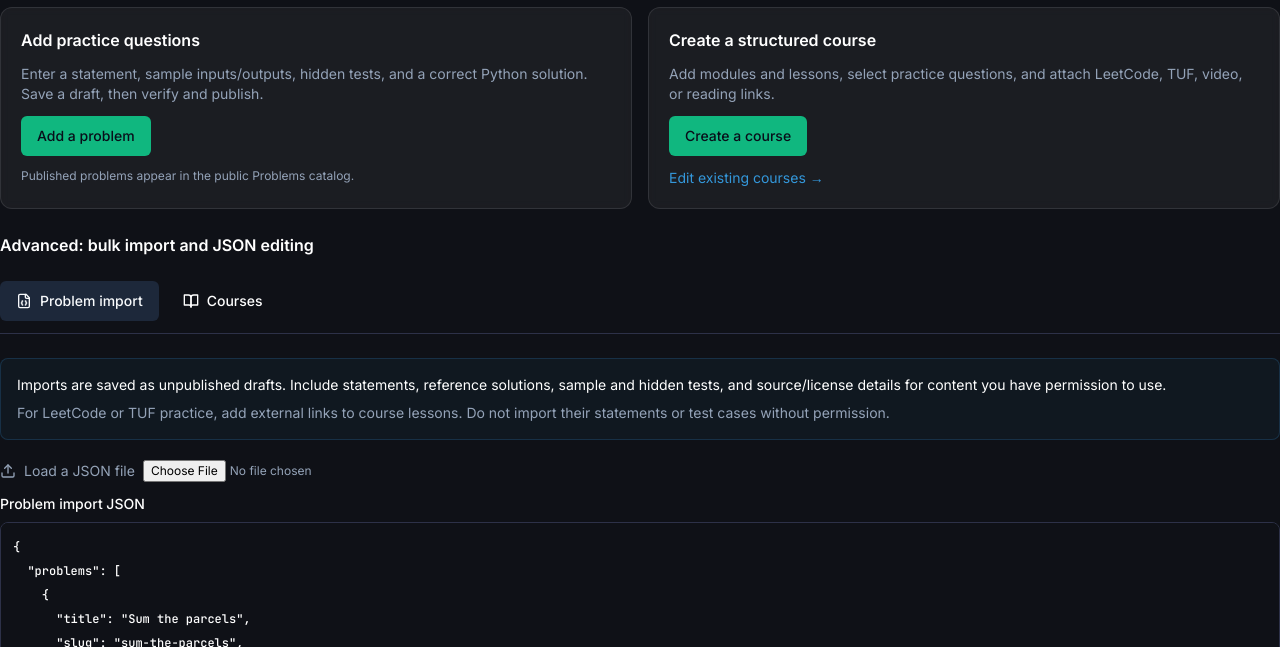
Test: course author reviews replacement effects before saving existing content
Click the button "Courses".
click(223, 301)  # box [167,281,279,321]
(page scrolled)
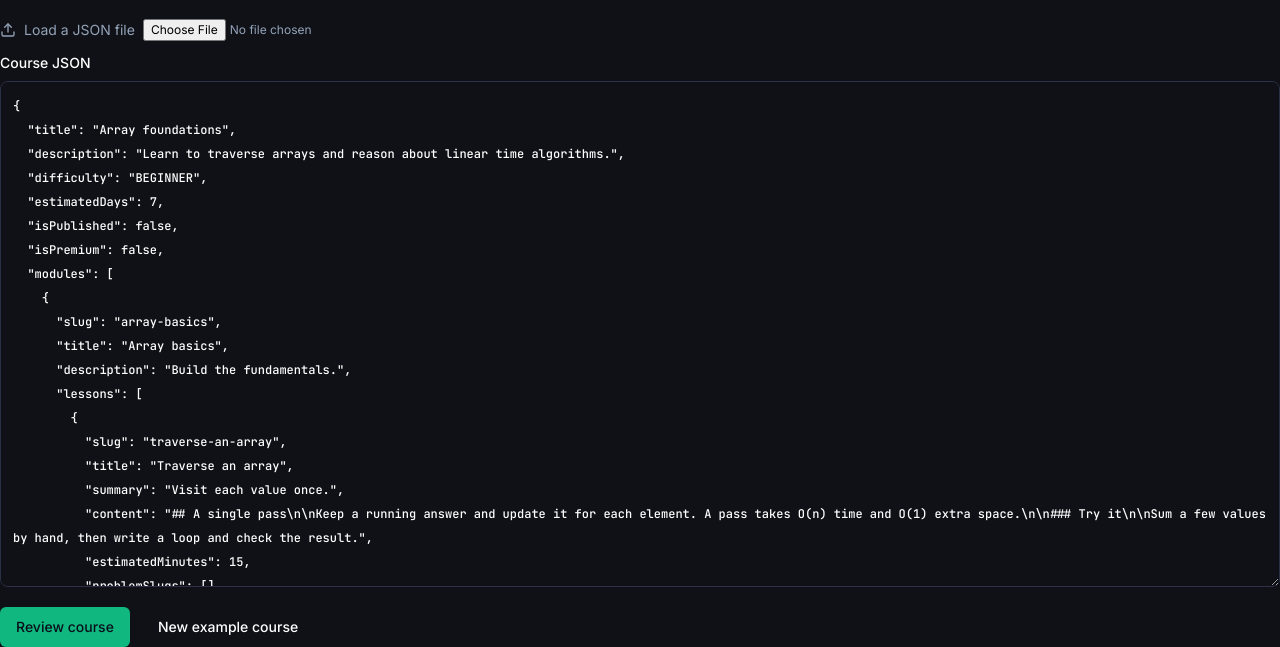
Click the button "Review course".
click(65, 627)  # box [0,607,130,646]
(page scrolled)
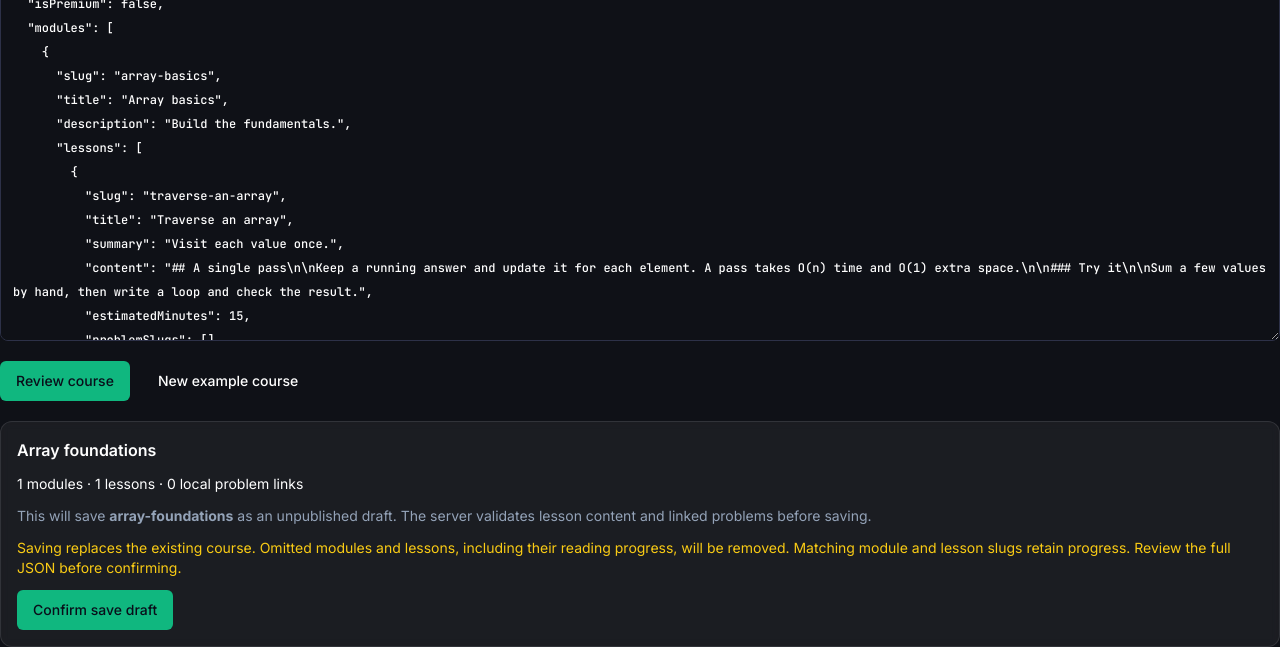
Now the text "Omitted modules and lessons, including their reading progress, will be removed" is shown, box [17,539,1231,576]
Click the button "Confirm save draft".
click(95, 610)  # box [17,590,173,630]
(page scrolled)
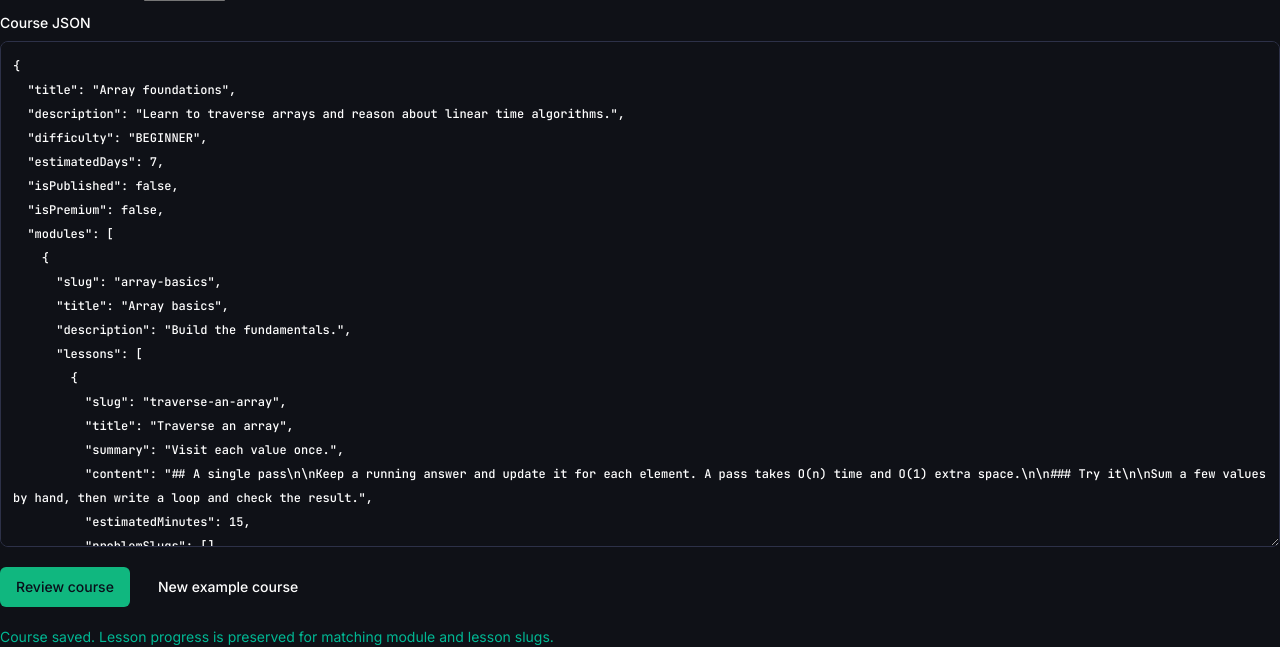
Now the message shows "Course saved.", box [0,628,554,645]
